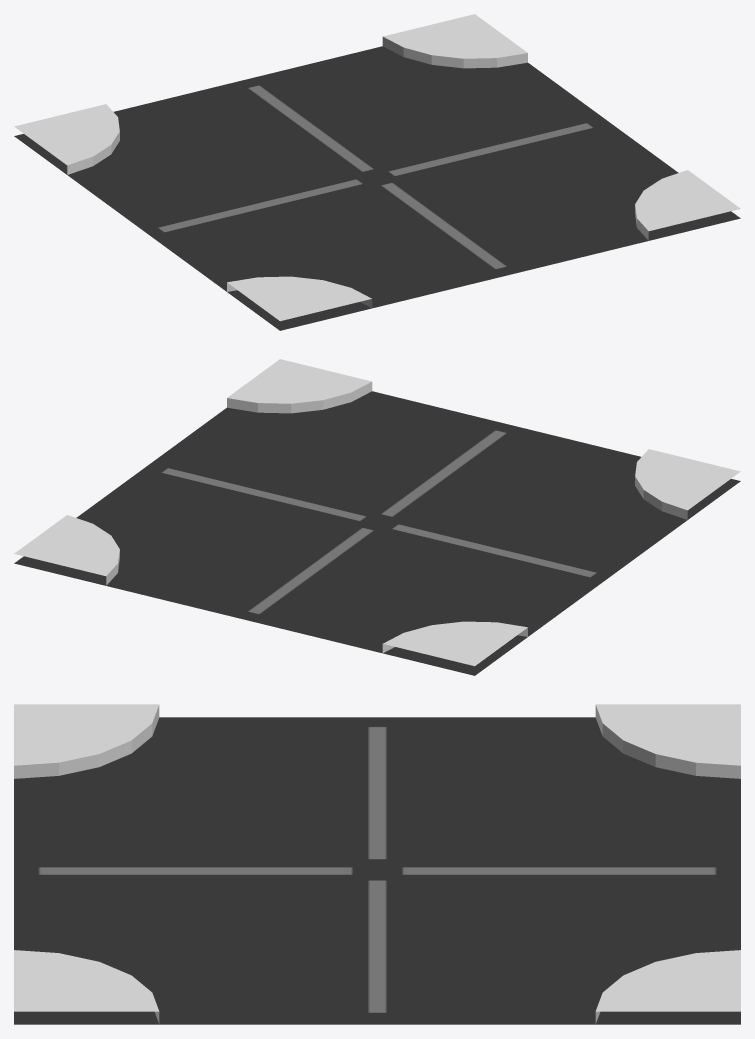
File: road1.fbx
The picture shows the model from 3 angles, top to bottom: view 1: azimuth 30°, elevation 25°; view 2: azimuth 150°, elevation 25°; view 3: azimuth 270°, elevation 25°; orthographic projection. The views are drawn at different scales.
Visible parts, largest first — view 1: Plane; view 2: Plane; view 3: Plane.
Part boxes in pixels (x1=…): Plane: x1=14, y1=14, x2=740, y2=330; Plane: x1=14, y1=359, x2=740, y2=675; Plane: x1=14, y1=704, x2=740, y2=1024.
Size of the model in its own units: 1000 by 20 by 1000.
